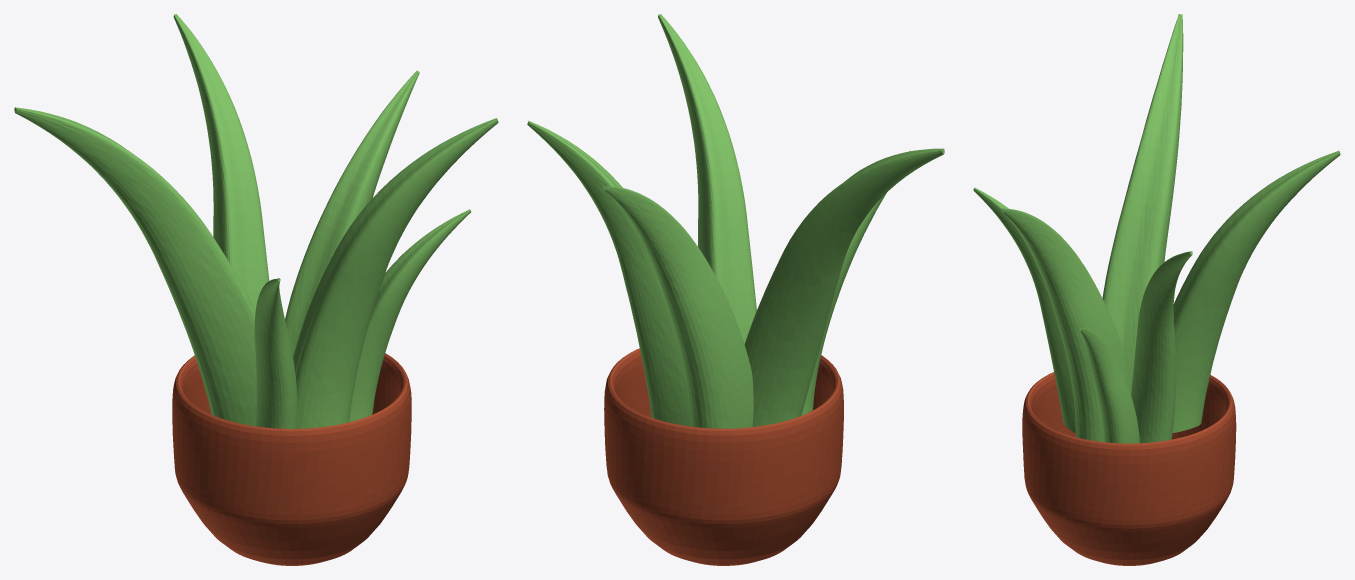
Rendered from plant.gltf.
3 renders of one model, left to right at view 1: azimuth 30°, elevation 25°; view 2: azimuth 150°, elevation 25°; view 3: azimuth 270°, elevation 25°, orthographic. The views are drawn at different scales.
Bounding box in the file's own units: 2.01 × 2.25 × 1.75.
